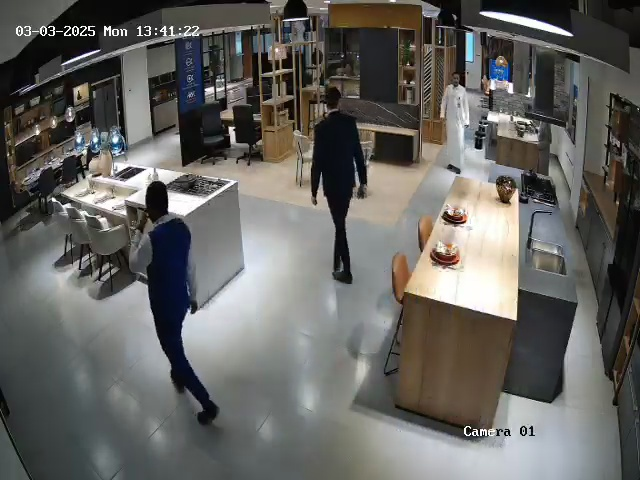employee: (128, 181, 221, 427), (310, 86, 368, 284)
male: (440, 72, 470, 174)
